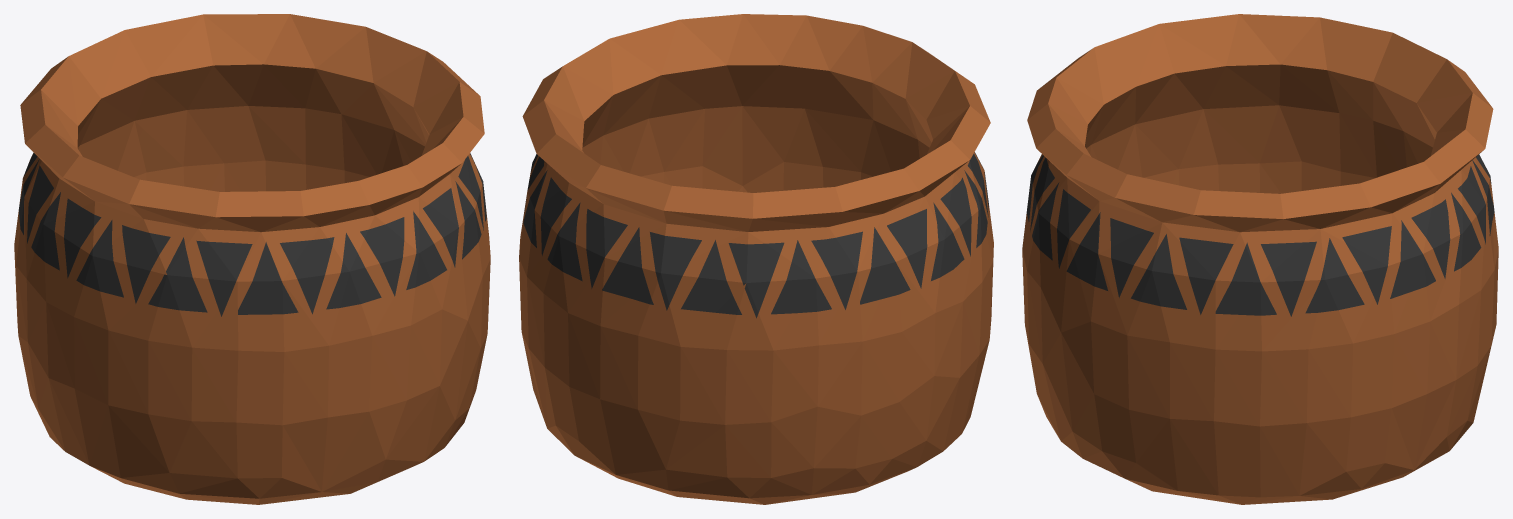
Rendered from Pottery 22_1.fbx.
3 renders of one model, left to right at view 1: azimuth 30°, elevation 25°; view 2: azimuth 150°, elevation 25°; view 3: azimuth 270°, elevation 25°, orthographic.
Parts seen in each view (by area): view 1: Pottery 22_1; view 2: Pottery 22_1; view 3: Pottery 22_1.
Boxes of the visible parts, x1,y1,x2,y2 form: Pottery 22_1: (14, 14, 490, 504); Pottery 22_1: (519, 14, 993, 504); Pottery 22_1: (1022, 14, 1498, 504).
Bounding box in the file's own units: 51.71 × 39.4 × 51.68.
